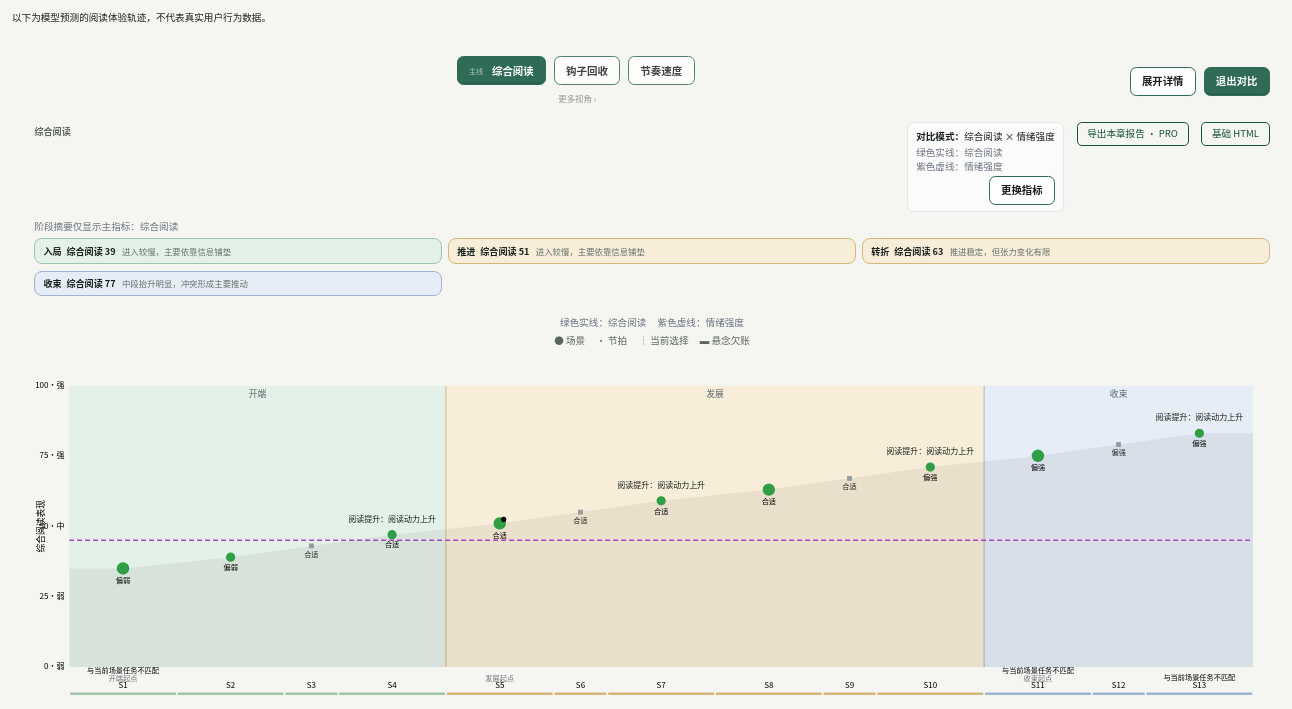
Test: 对比分析 mode + unified topbar › hides compare on hook_payoff and clears compare
expect the message "对比模式：综合阅读 × 情绪强度 绿色实线：综合阅读 紫色虚线：情绪强度 更换指标" is shown: met, box [907,122,1064,212]
Click the radio button with test id "journey-lens-hook_payoff" at (587, 71), box [554,56,620,85]
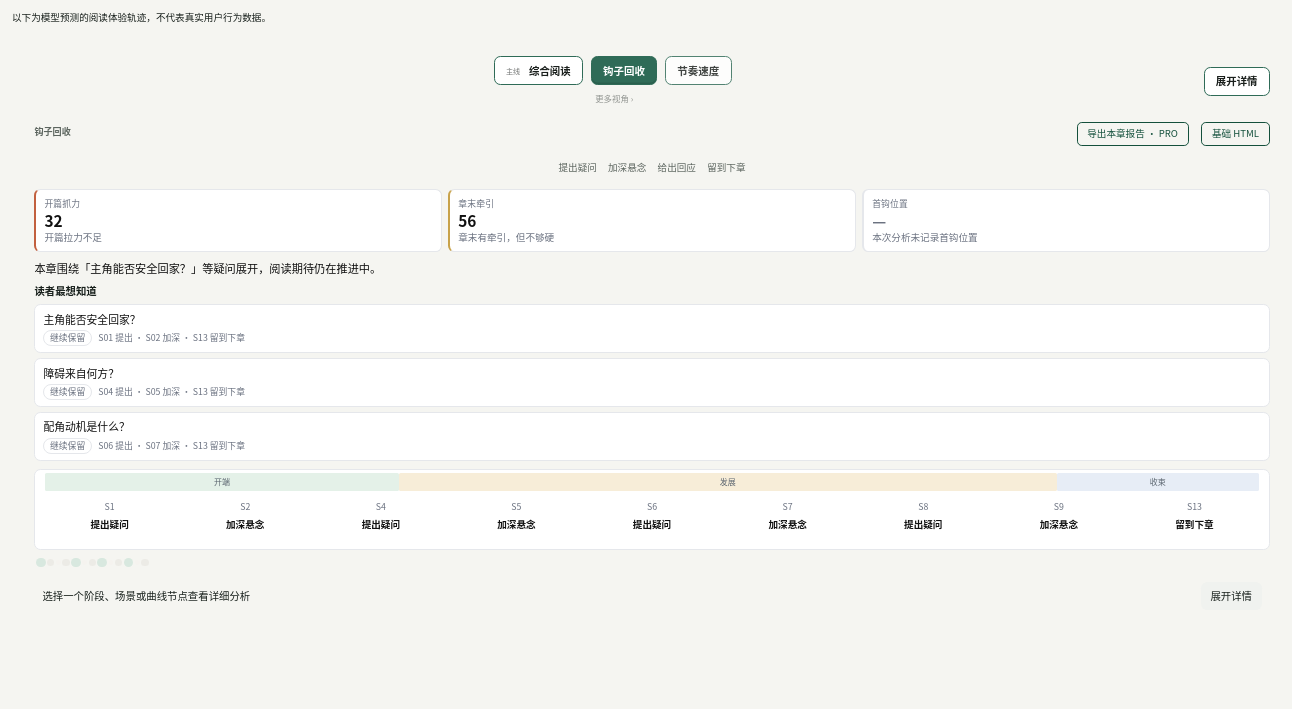
expect the button with test id "journey-inspector-toggle" is shown: met, box [1204,67,1270,96]
expect the message with test id "journey-comparison-toolbar" is gone: met
expect the button with test id "journey-comparison-exit" is gone: met
